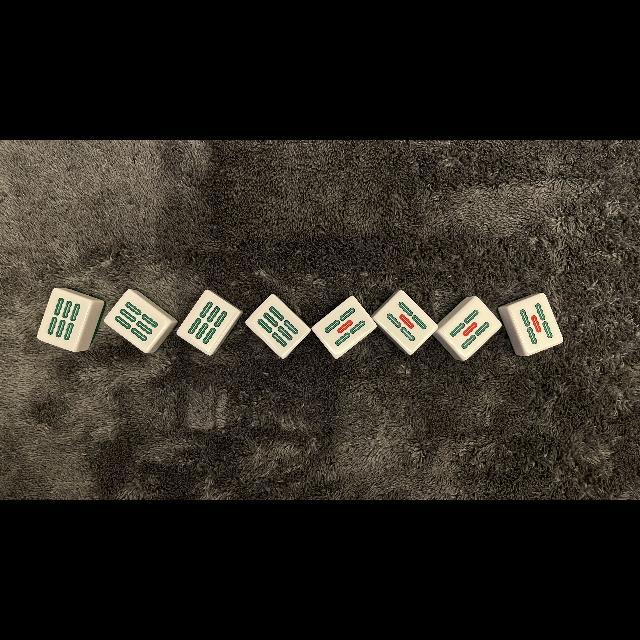b5: (382, 296, 431, 346), (320, 301, 366, 349), (446, 305, 492, 351), (515, 300, 557, 350)
b6: (252, 301, 300, 351), (111, 299, 162, 346), (42, 293, 86, 343), (185, 296, 227, 348)
